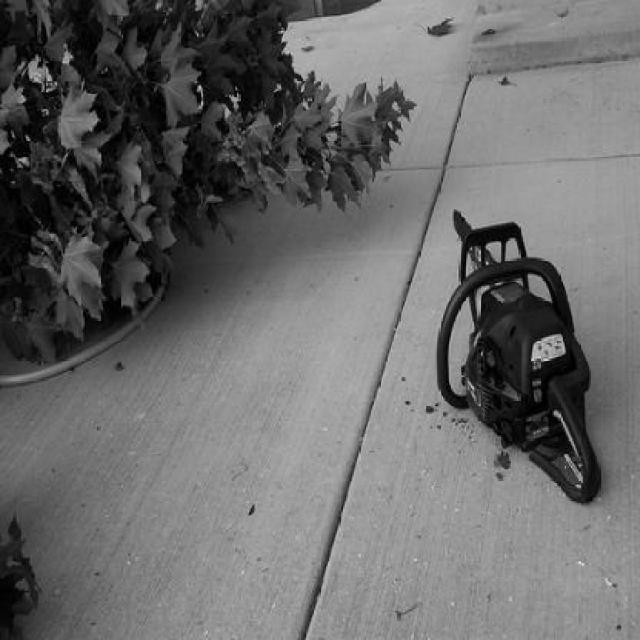Chainsaw: (435, 208, 600, 504)
